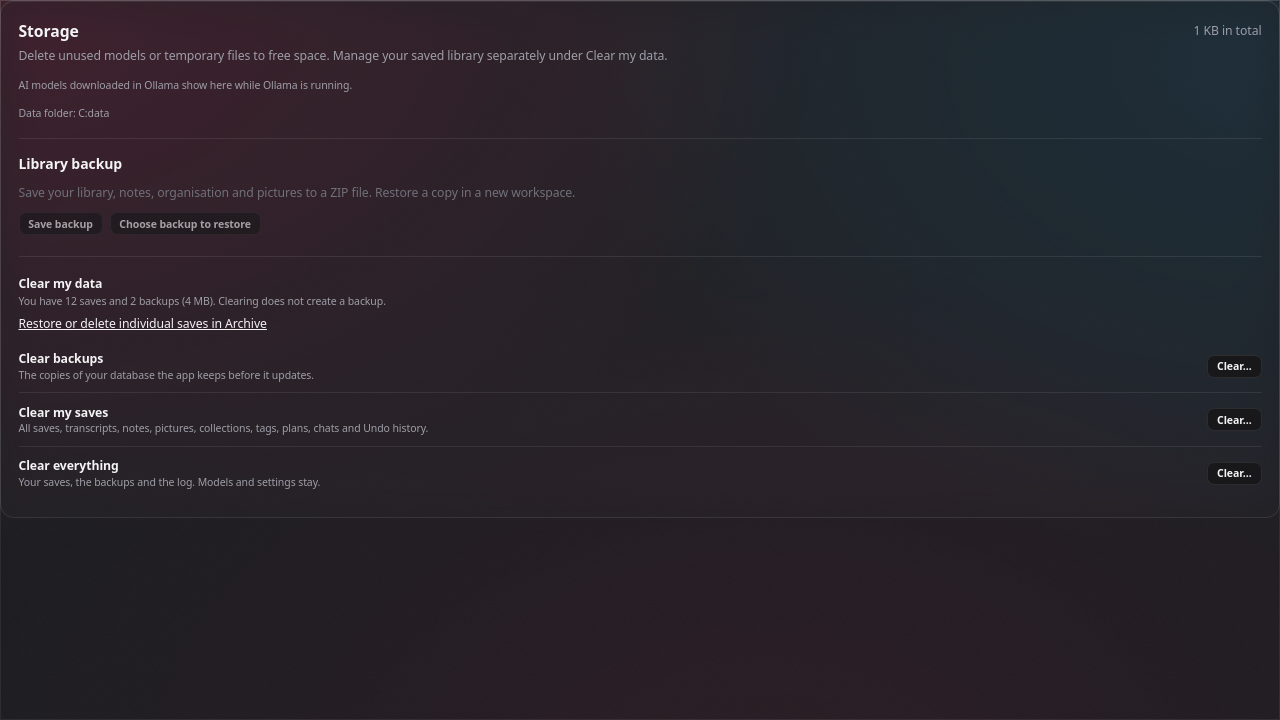
Scenario: storage can clear the backups, the saves or everything, and asks first
Check: the text "You have 12 saves and 2 backups" is shown, box [18, 294, 386, 308]
Step 1. Click the button "Clear…" in the row of "Clear my saves" → (1234, 420), box [1207, 408, 1262, 431]
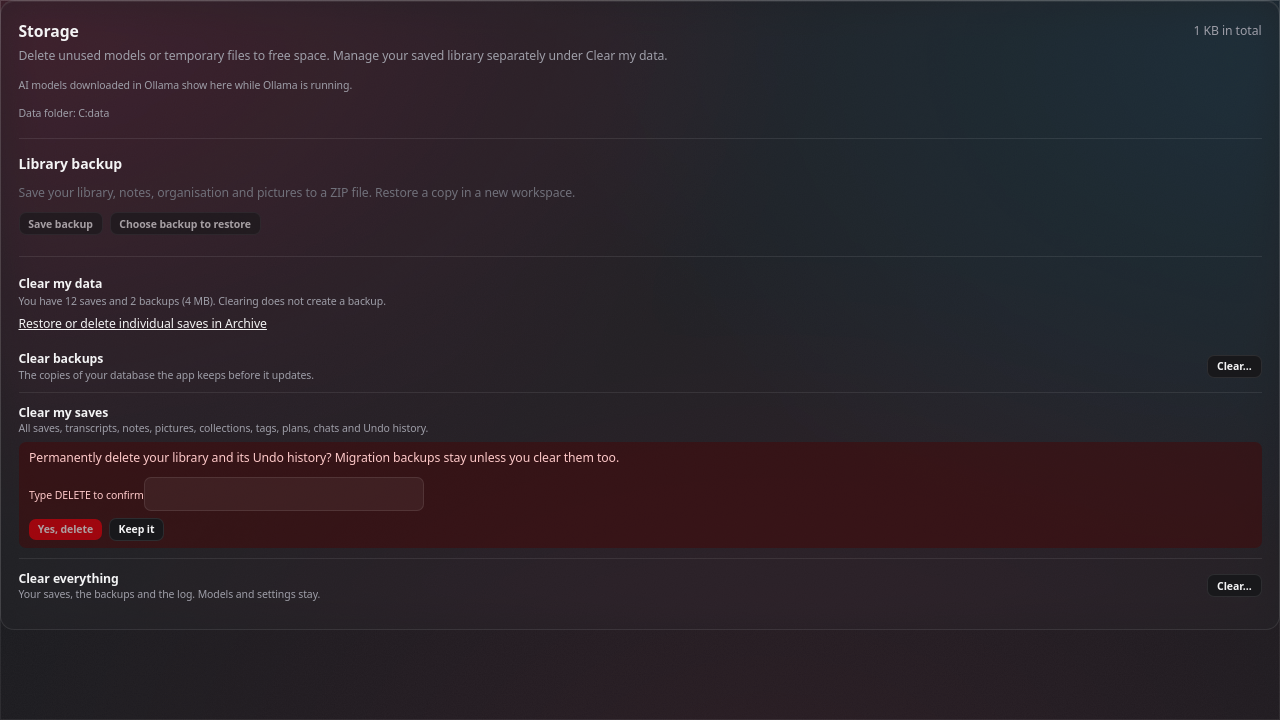
Check: the button "Yes, delete" is disabled, box [29, 519, 102, 540]
Step 2. Type "DELETE" into the field labelled "Type DELETE to confirm" → (284, 494), box [144, 477, 424, 511]
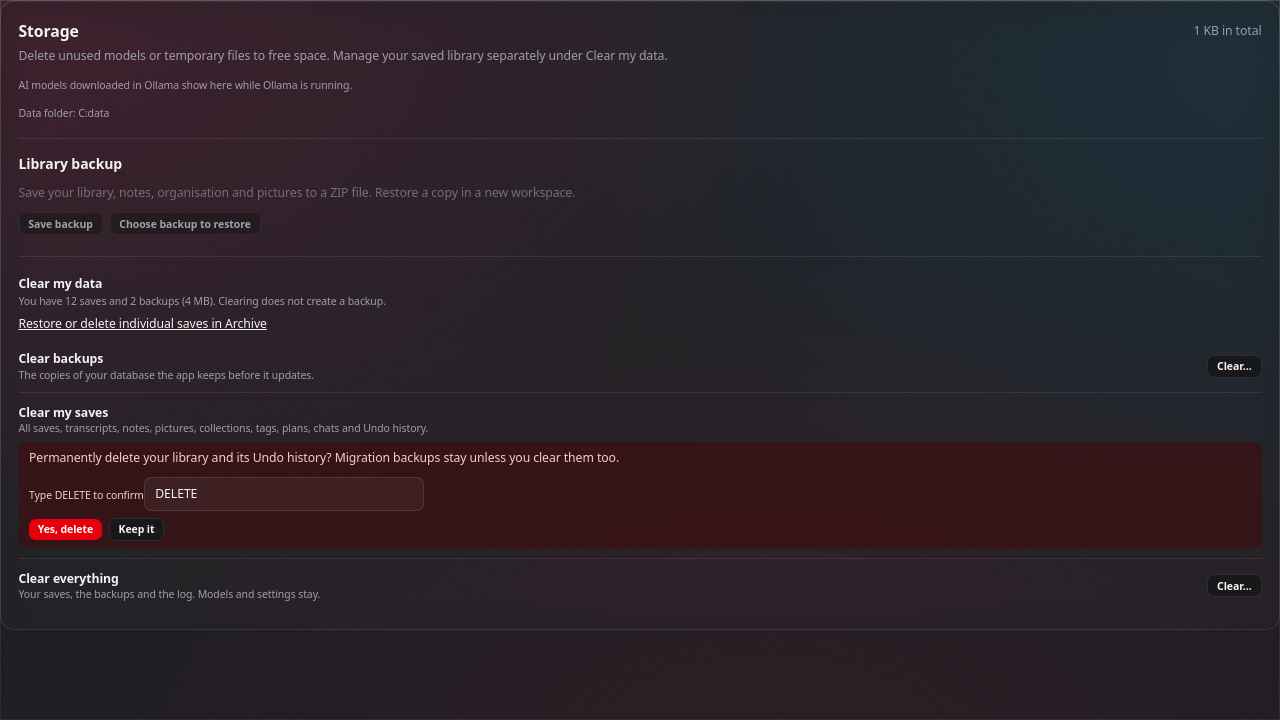
Step 3. Click the button "Yes, delete" → (65, 529), box [29, 519, 102, 540]
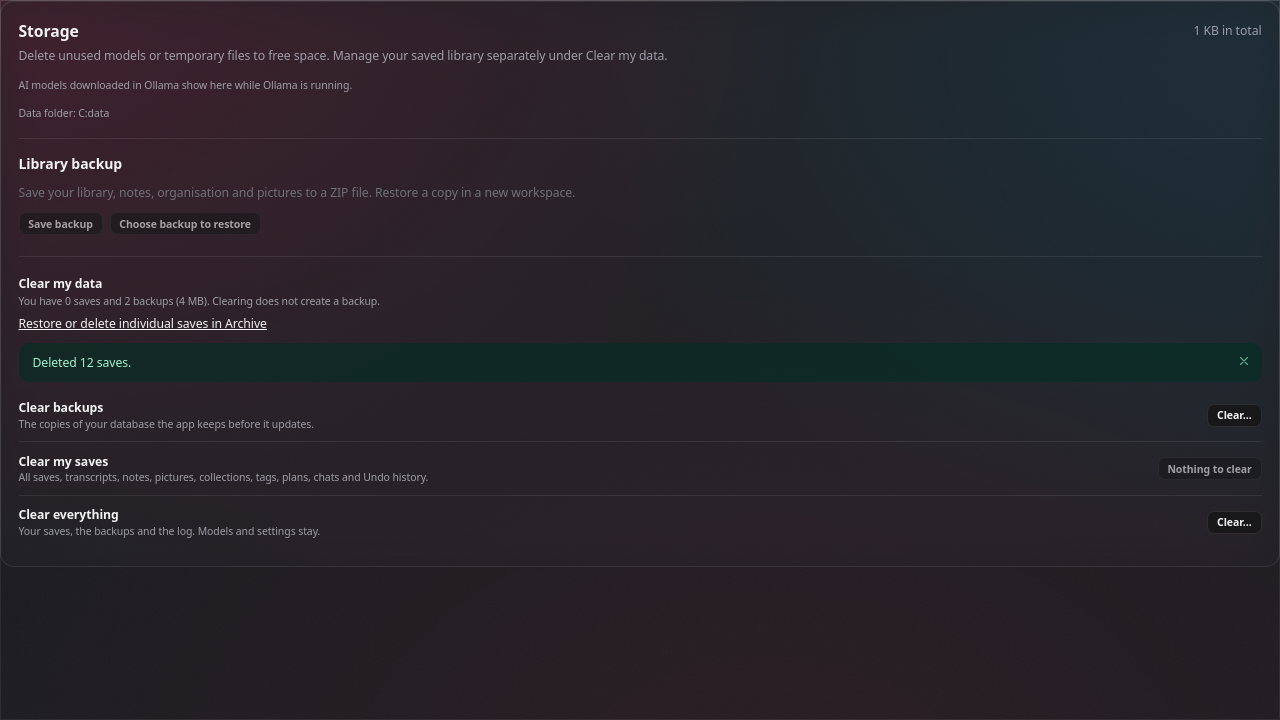
Check: the text "Deleted 12 saves." is shown, box [18, 343, 1262, 382]
Check: the button "Nothing to clear" is disabled, box [1158, 457, 1262, 480]
